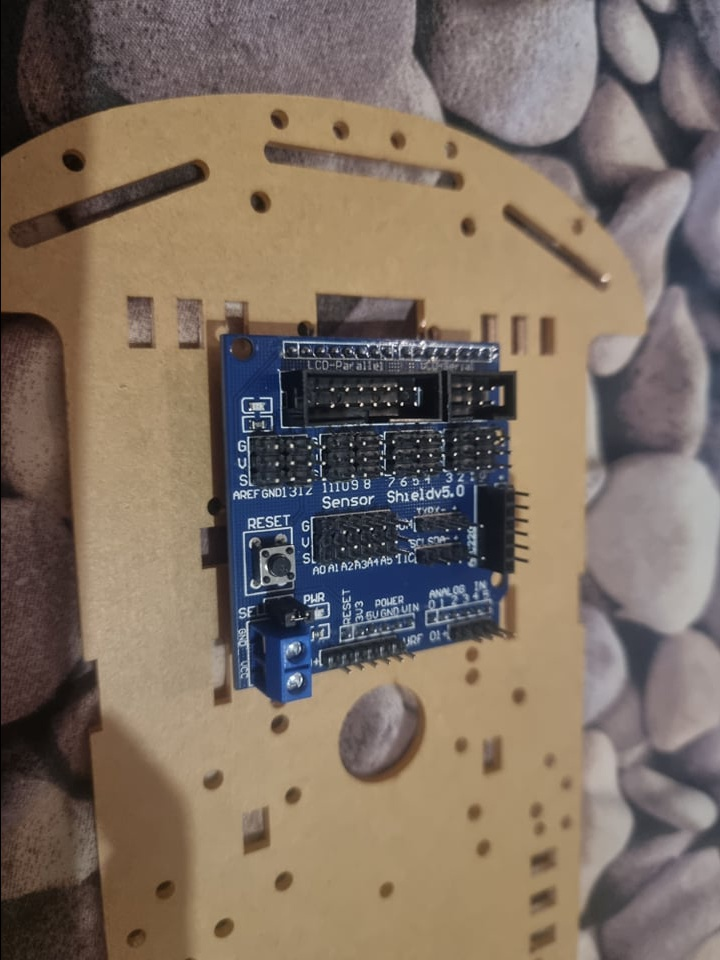5V EXPANSION: (220, 330, 529, 700)
